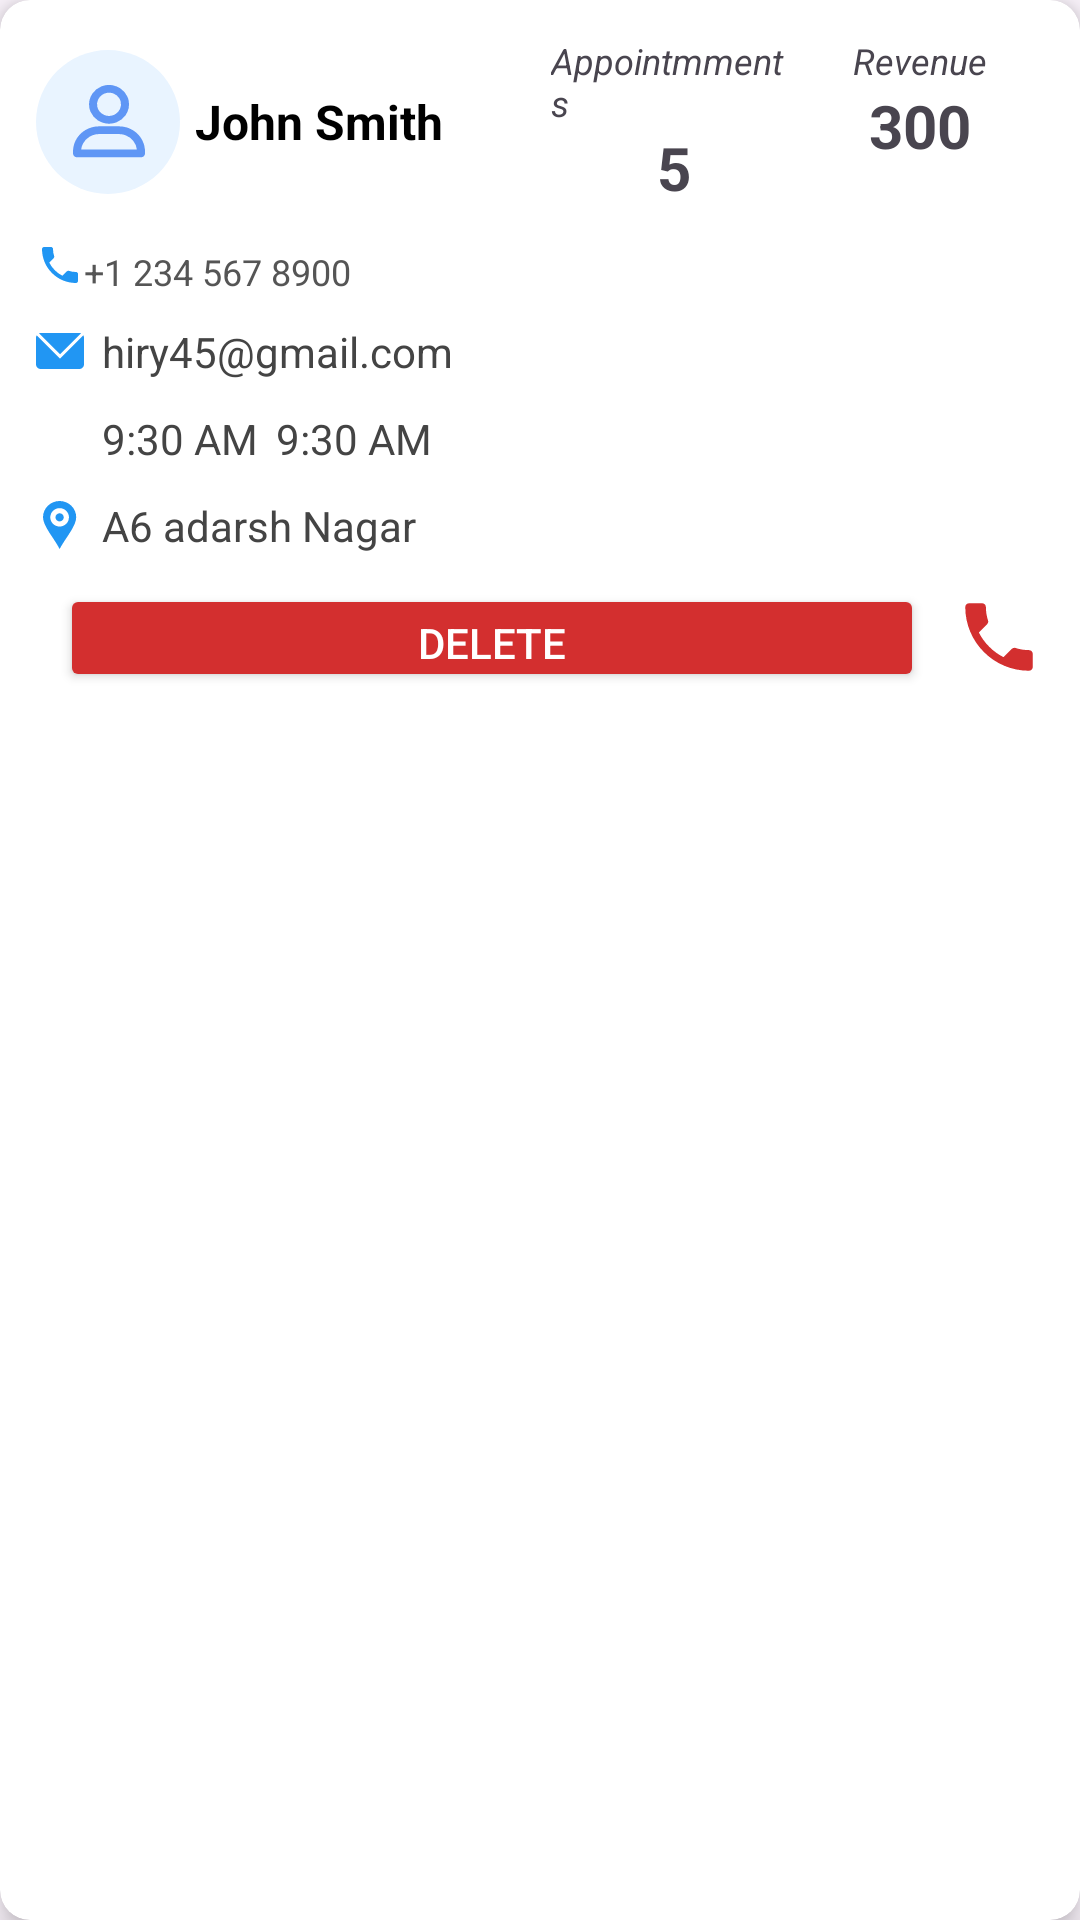

Icon click points for this 1080px×1920px phone screenshot, format (x=x, y=y):
call: (x=60, y=265), (x=999, y=637)
email: (x=60, y=351)
location: (x=60, y=525)
Profile Image: (x=108, y=122)
